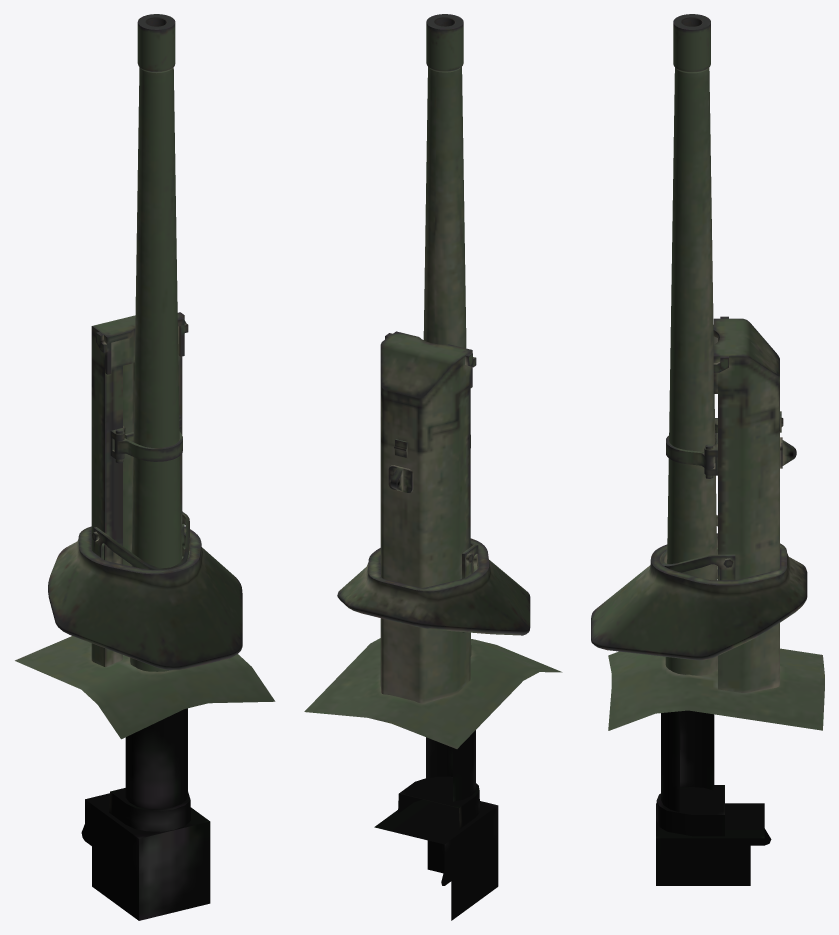
Rendered from Gun_01.glb.
3 renders of one model, left to right at view 1: azimuth 30°, elevation 25°; view 2: azimuth 150°, elevation 25°; view 3: azimuth 270°, elevation 25°, orthographic.
Parts seen in each view (by area): view 1: set_0_group_0; view 2: set_0_group_0; view 3: set_0_group_0.
Boxes of the visible parts, x1=… form: set_0_group_0: x1=15, y1=14, x2=275, y2=920; set_0_group_0: x1=304, y1=14, x2=562, y2=920; set_0_group_0: x1=591, y1=14, x2=824, y2=885.
Size of the model in its own units: 0.6087 by 2.82 by 0.679.
1 material, 1 textured.
